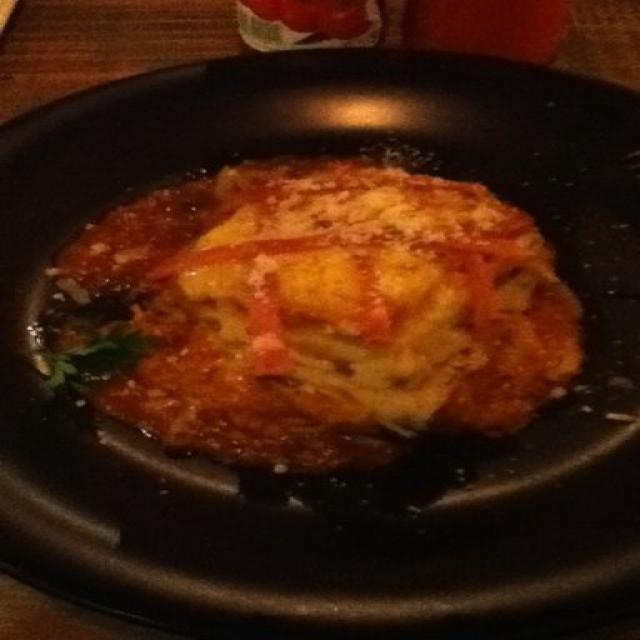Lasagna: (99, 165, 619, 437)
